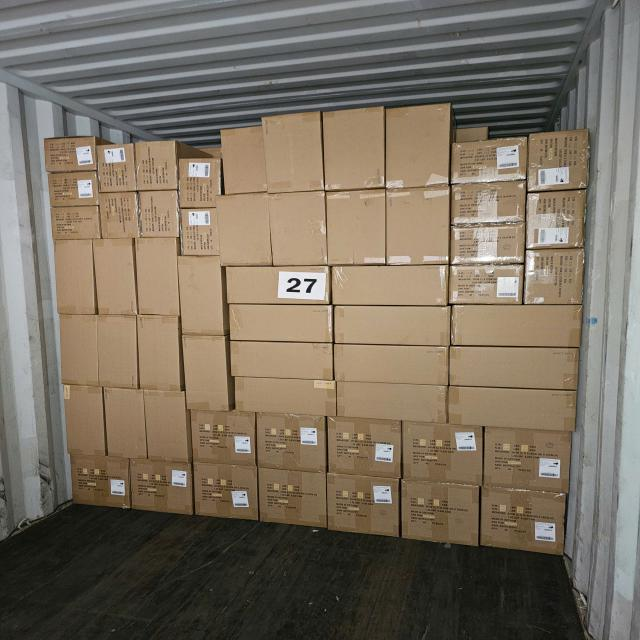Carton: (479, 491, 564, 559), (482, 430, 569, 496), (450, 345, 580, 389), (386, 102, 451, 187), (451, 308, 582, 350), (449, 390, 578, 432), (398, 481, 478, 546), (401, 425, 483, 488), (324, 106, 385, 190), (390, 188, 452, 266), (330, 265, 446, 306), (333, 308, 450, 348), (267, 111, 324, 192), (333, 344, 448, 384), (338, 384, 450, 425), (327, 476, 401, 538), (326, 188, 386, 264), (328, 416, 402, 477), (255, 469, 326, 529), (271, 188, 327, 264), (228, 265, 333, 305), (257, 412, 328, 469), (229, 307, 332, 346), (529, 129, 592, 191), (238, 379, 335, 418), (191, 411, 257, 467), (233, 342, 335, 378), (193, 464, 257, 521), (181, 255, 226, 335), (218, 194, 268, 266), (526, 190, 586, 248), (128, 462, 192, 516), (524, 250, 585, 306), (66, 457, 128, 512), (96, 238, 138, 316), (186, 334, 230, 408), (138, 237, 178, 317), (219, 127, 264, 198), (454, 140, 530, 182), (139, 315, 181, 390), (453, 184, 528, 225), (145, 393, 189, 462), (56, 239, 96, 314), (96, 316, 136, 390), (453, 223, 527, 263), (450, 264, 524, 304), (62, 384, 104, 454), (60, 314, 97, 388), (107, 390, 147, 458), (134, 141, 176, 192), (180, 157, 222, 206), (47, 202, 99, 240), (96, 144, 135, 193), (182, 207, 220, 256), (138, 192, 178, 238), (98, 192, 137, 239), (45, 137, 97, 172), (48, 171, 97, 204)
